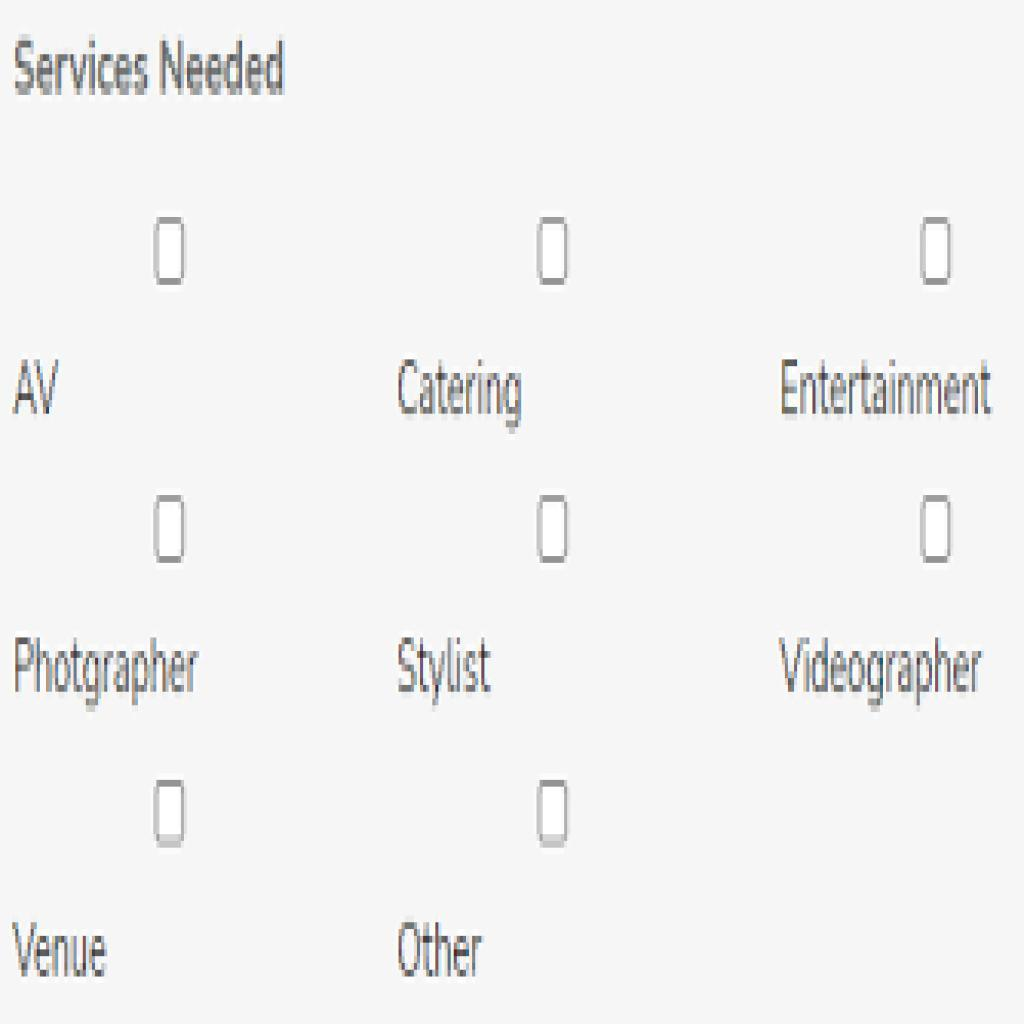checkbox: (154, 217, 189, 287), (920, 497, 954, 567), (918, 218, 954, 283), (153, 782, 187, 848), (154, 499, 187, 565), (539, 781, 572, 846), (538, 218, 567, 284), (539, 496, 568, 560)
